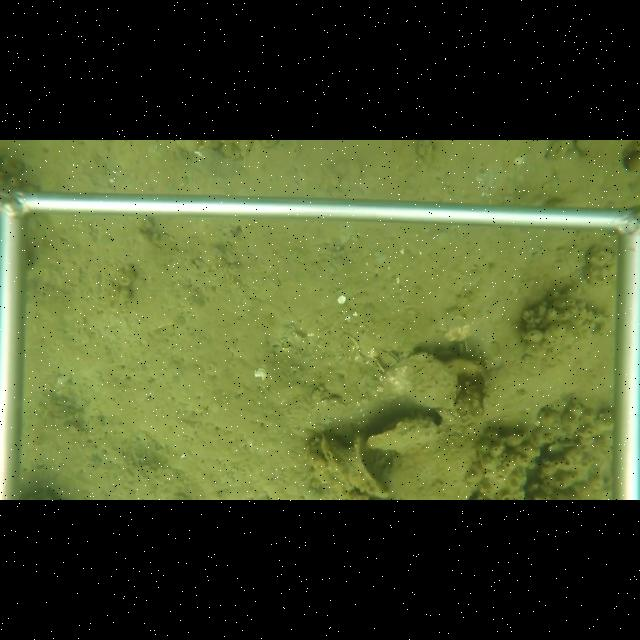Oyster-Closed: (373, 351, 461, 410), (368, 414, 443, 456), (295, 434, 344, 497), (316, 432, 358, 494), (350, 430, 388, 495), (561, 304, 612, 327)
